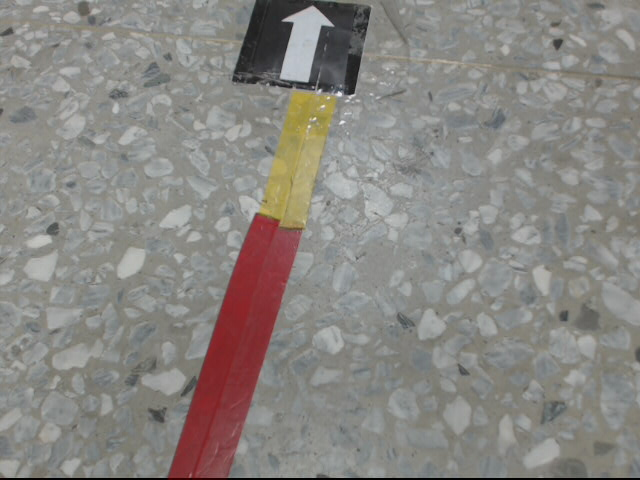straight: (236, 2, 369, 99)
